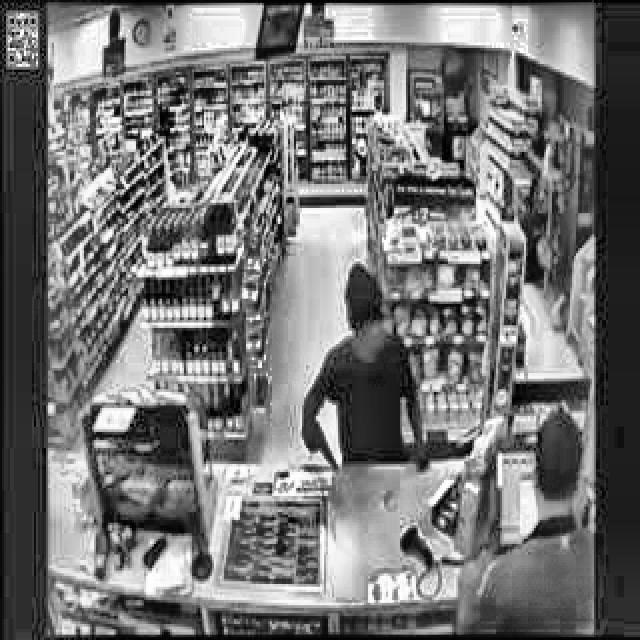robbery: (294, 256, 432, 480)
